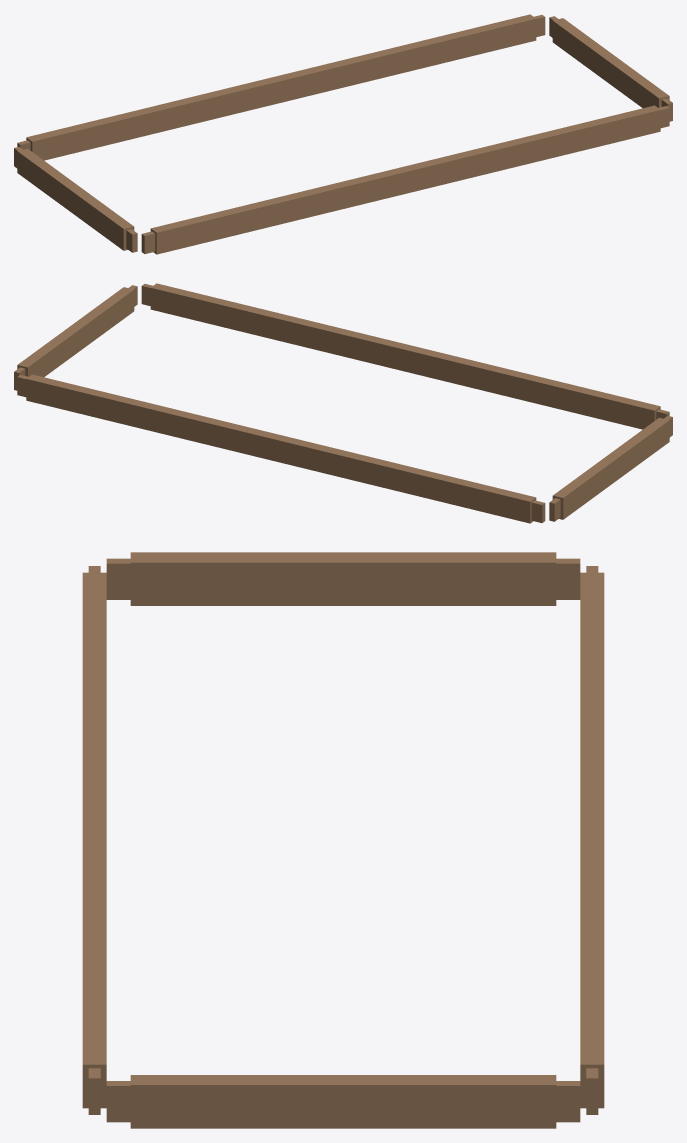
File: Aprons_Slim.glb
3 views of the same model, one above another, from view 1: azimuth 30°, elevation 25°; view 2: azimuth 150°, elevation 25°; view 3: azimuth 270°, elevation 25° (orthographic). The views are drawn at different scales.
Visible parts, largest first — view 1: Aprons_Slim; view 2: Aprons_Slim; view 3: Aprons_Slim.
Part boxes in pixels (bbox=[...]): Aprons_Slim: bbox=[14, 14, 672, 254]; Aprons_Slim: bbox=[14, 283, 672, 523]; Aprons_Slim: bbox=[82, 552, 604, 1128].
Size of the model in its own units: 0.997 by 0.0381 by 0.4128.
